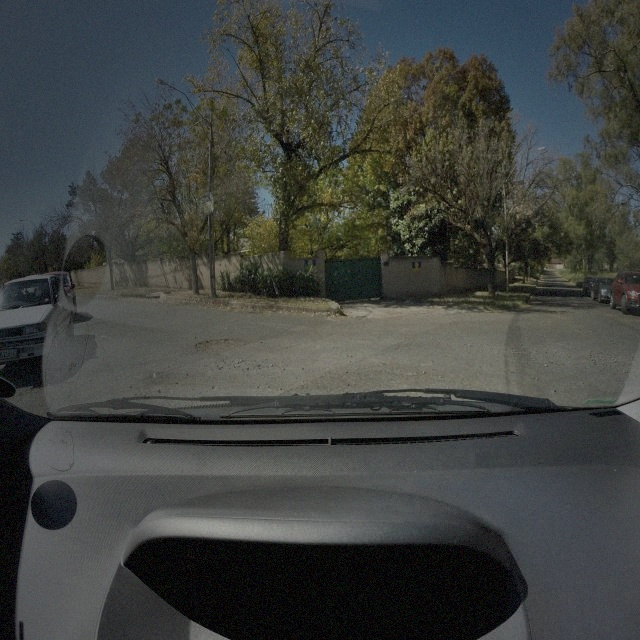pothole: (192, 332, 247, 353)
